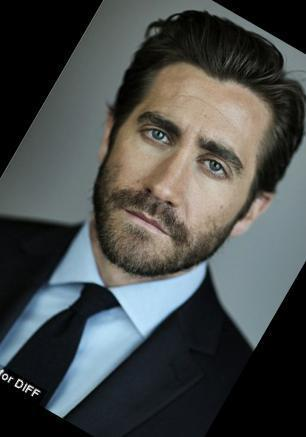Sober: (110, 74, 257, 249)
